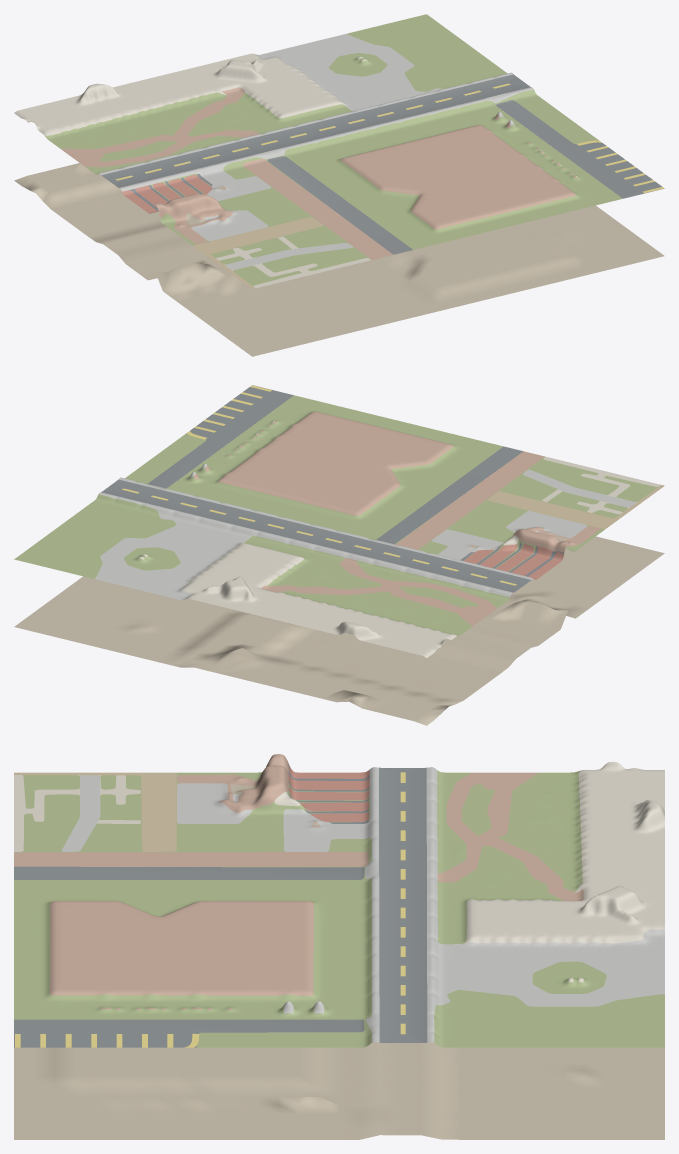
The picture shows the model from 3 angles, top to bottom: view 1: azimuth 30°, elevation 25°; view 2: azimuth 150°, elevation 25°; view 3: azimuth 270°, elevation 25°; orthographic projection. The views are drawn at different scales.
Visible parts, largest first — view 1: s_-9_-4__soil, s_-9_-4__grass, s_-9_-4__brick_paving, s_-9_-4__asphalt, s_-9_-4__stone_paving, s_-9_-4__paving, s_-9_-4__timber_deck, s_-9_-4__red_court, s_-9_-4__yellow_marking; view 2: s_-9_-4__soil, s_-9_-4__grass, s_-9_-4__brick_paving, s_-9_-4__asphalt, s_-9_-4__stone_paving, s_-9_-4__paving, s_-9_-4__red_court, s_-9_-4__timber_deck, s_-9_-4__yellow_marking; view 3: s_-9_-4__grass, s_-9_-4__soil, s_-9_-4__brick_paving, s_-9_-4__asphalt, s_-9_-4__stone_paving, s_-9_-4__paving, s_-9_-4__timber_deck, s_-9_-4__red_court, s_-9_-4__yellow_marking.
Boxes of the visible parts, x1=… form: s_-9_-4__soil: x1=14, y1=148, x2=664, y2=356; s_-9_-4__grass: x1=44, y1=14, x2=622, y2=285; s_-9_-4__brick_paving: x1=60, y1=87, x2=577, y2=259; s_-9_-4__asphalt: x1=101, y1=74, x2=664, y2=254; s_-9_-4__stone_paving: x1=99, y1=33, x2=533, y2=270; s_-9_-4__paving: x1=14, y1=53, x2=370, y2=288; s_-9_-4__timber_deck: x1=193, y1=217, x2=323, y2=289; s_-9_-4__red_court: x1=122, y1=174, x2=212, y2=213; s_-9_-4__yellow_marking: x1=115, y1=83, x2=663, y2=193; s_-9_-4__soil: x1=14, y1=535, x2=664, y2=725; s_-9_-4__grass: x1=14, y1=395, x2=657, y2=636; s_-9_-4__brick_paving: x1=194, y1=411, x2=600, y2=626; s_-9_-4__asphalt: x1=101, y1=385, x2=564, y2=592; s_-9_-4__stone_paving: x1=94, y1=463, x2=635, y2=600; s_-9_-4__paving: x1=138, y1=457, x2=660, y2=658; s_-9_-4__red_court: x1=464, y1=543, x2=563, y2=579; s_-9_-4__timber_deck: x1=488, y1=485, x2=664, y2=529; s_-9_-4__yellow_marking: x1=122, y1=385, x2=516, y2=585; s_-9_-4__grass: x1=14, y1=770, x2=664, y2=1047; s_-9_-4__soil: x1=14, y1=783, x2=664, y2=1139; s_-9_-4__brick_paving: x1=14, y1=754, x2=583, y2=1009; s_-9_-4__asphalt: x1=14, y1=764, x2=427, y2=1047; s_-9_-4__stone_paving: x1=61, y1=767, x2=664, y2=1042; s_-9_-4__paving: x1=14, y1=761, x2=664, y2=982; s_-9_-4__timber_deck: x1=14, y1=772, x2=176, y2=851; s_-9_-4__red_court: x1=288, y1=765, x2=369, y2=821; s_-9_-4__yellow_marking: x1=15, y1=772, x2=405, y2=1047.
Bounding box in the file's own units: 128 × 24.01 × 128.
